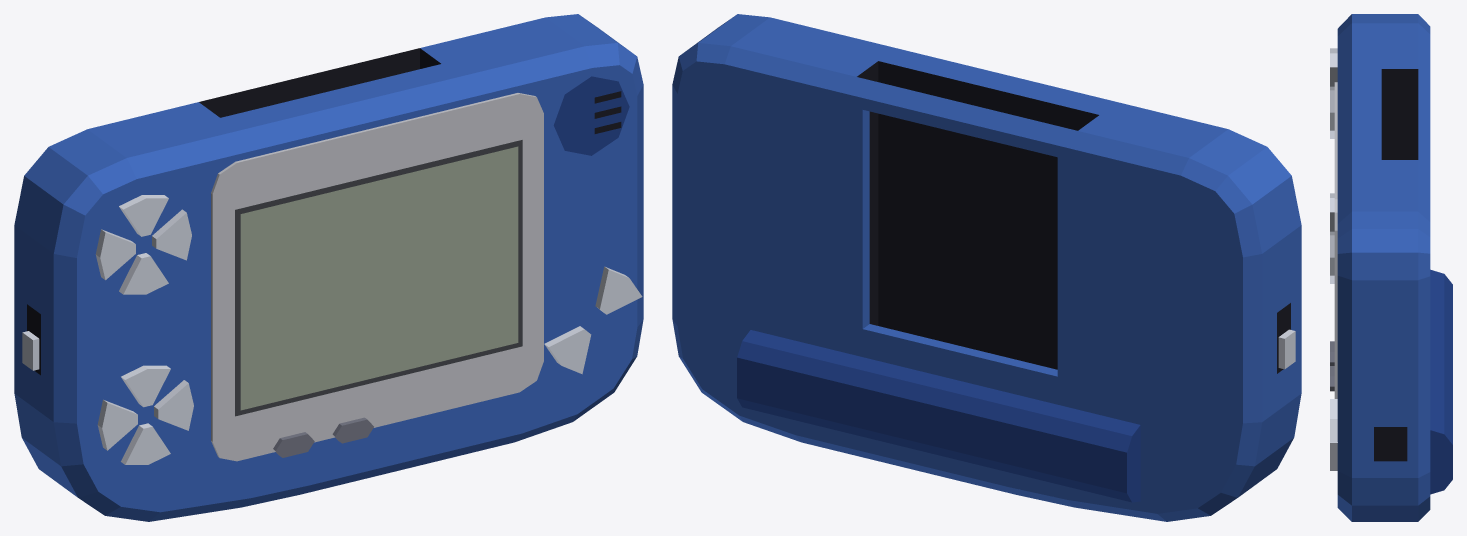
File: wswan.obj
3 views of the same model, side by side, from view 1: azimuth 30°, elevation 25°; view 2: azimuth 150°, elevation 25°; view 3: azimuth 270°, elevation 25° (orthographic). The views are drawn at different scales.
Visible parts, largest first — view 1: body; view 2: body; view 3: body.
Part boxes in pixels (bbox=[...]): body: bbox=[14, 14, 643, 521]; body: bbox=[672, 14, 1301, 521]; body: bbox=[1330, 14, 1452, 521].
Size of the model in its own units: 12.27 by 7.43 by 2.59.
